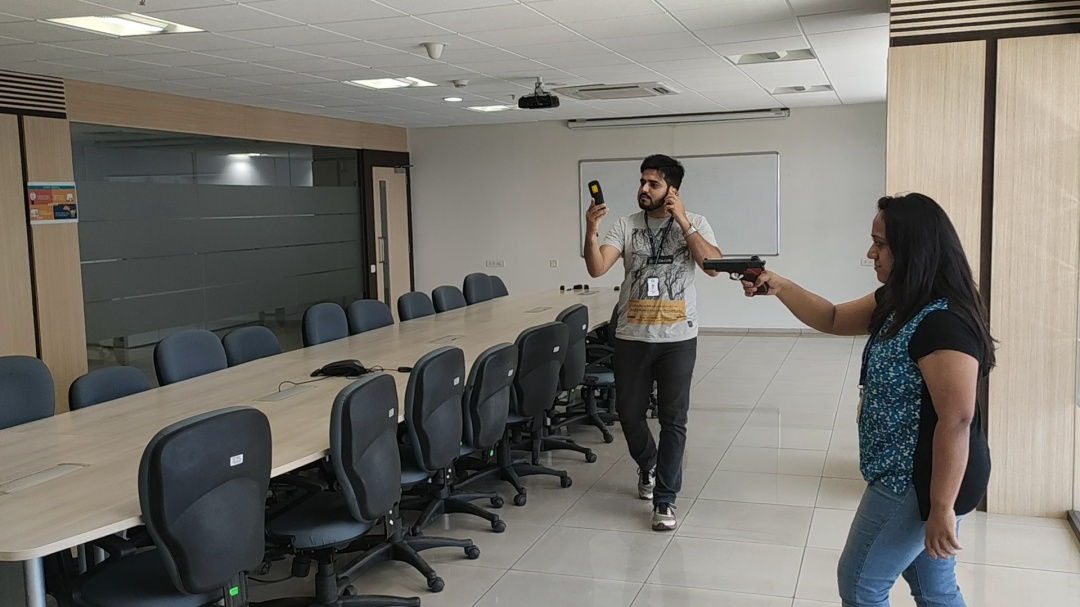gun: (702, 255, 769, 295)
